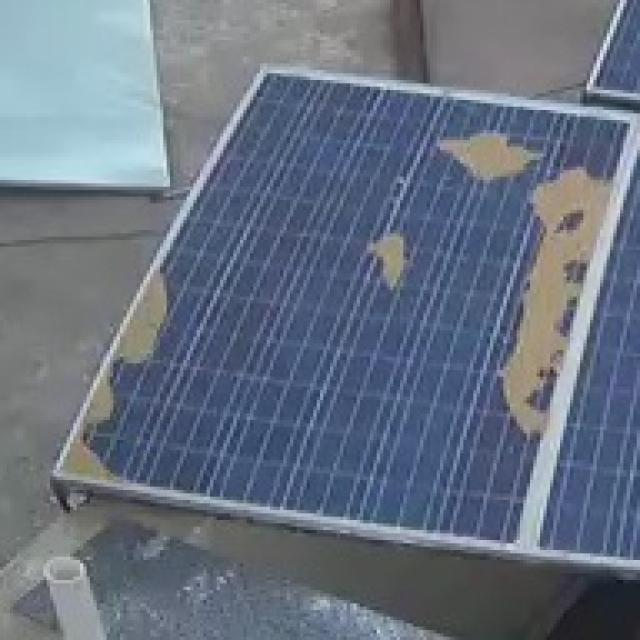Dusty: (105, 259, 173, 371), (515, 268, 564, 378), (418, 135, 538, 176), (554, 172, 602, 264), (359, 220, 412, 290), (502, 383, 543, 441), (529, 190, 551, 266), (69, 446, 100, 476), (90, 388, 114, 418), (566, 279, 584, 305)
